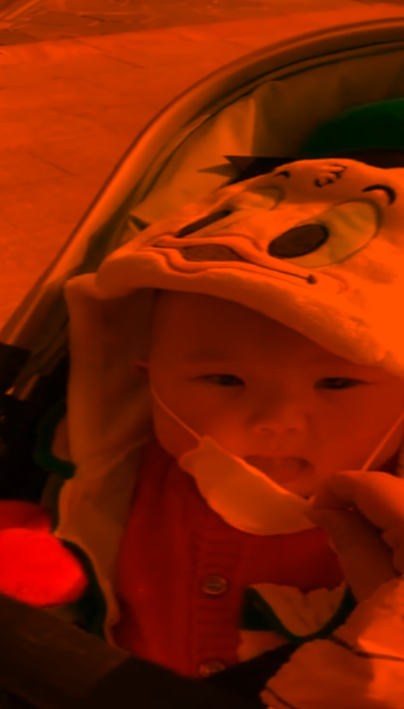mask_weared_incorrect: (123, 272, 403, 539)
